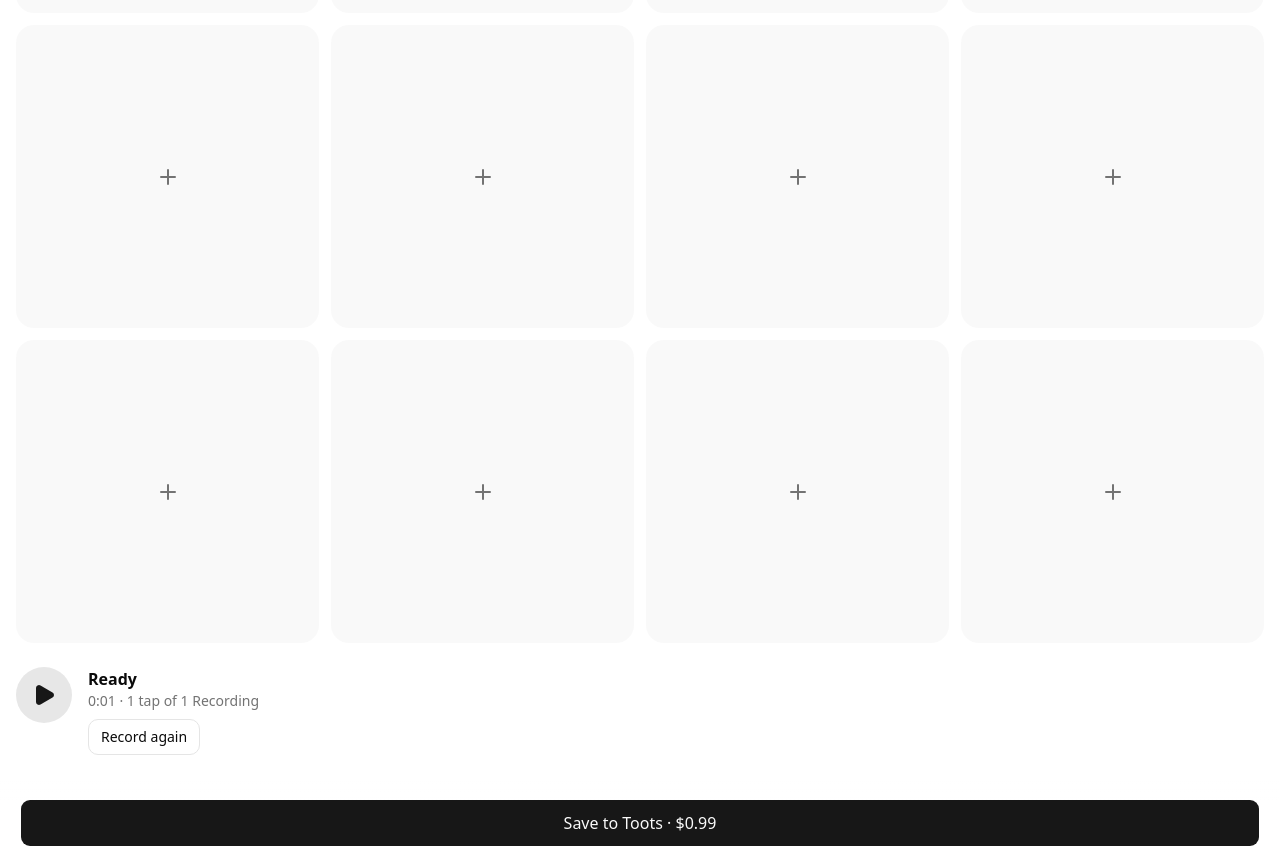
Test: a take on the Sound Pad › opened again › never takes the place of a take being recorded
(page scrolled)
Step 1. Click the button "Record again" → {"x": 144, "y": 737}, box x1=88 y1=719 x2=200 y2=755
(page scrolled)
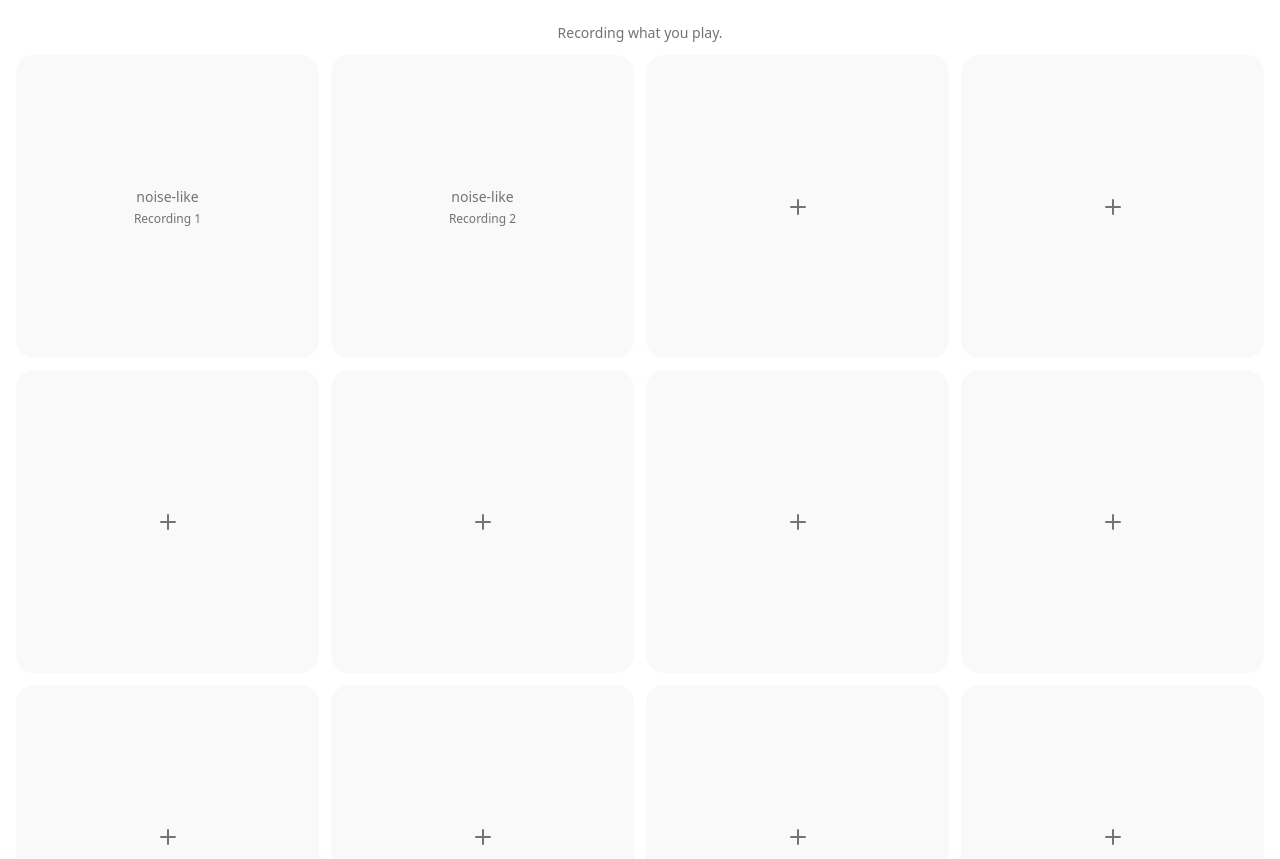
Step 2. Press the mouse on the button "noise-like Recording 1" → {"x": 168, "y": 206}, box x1=16 y1=55 x2=319 y2=358
(page scrolled)
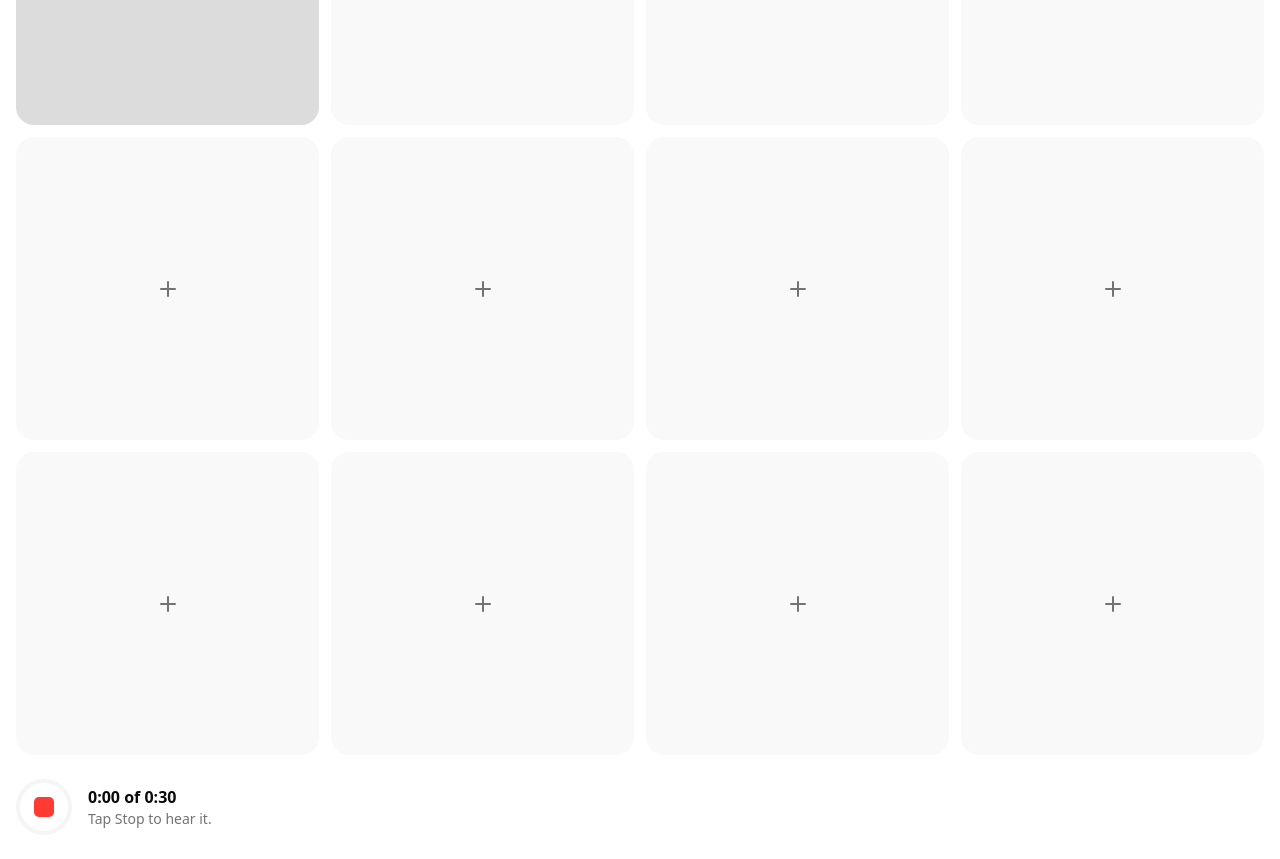
Expected: the text "0:00 of 0:30" is shown, x1=88 y1=786 x2=176 y2=808
